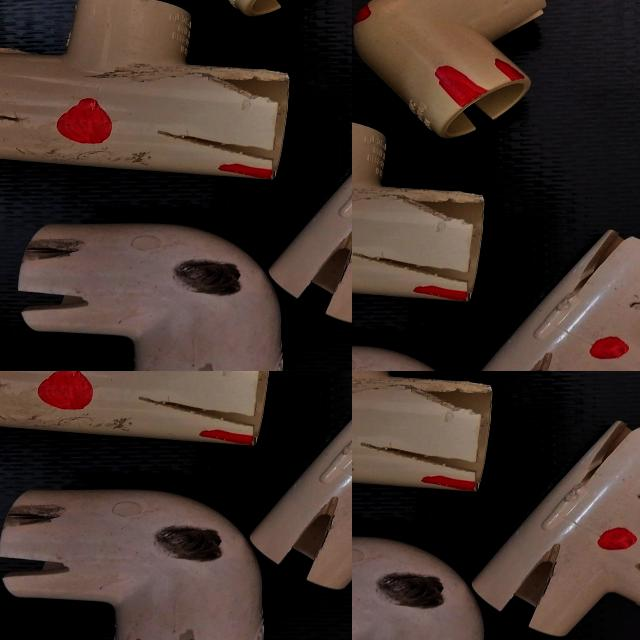Defective: (356, 439, 479, 473), (512, 554, 578, 612), (404, 385, 492, 420), (378, 576, 441, 609), (506, 576, 560, 610), (352, 371, 388, 399), (527, 546, 567, 570), (598, 529, 636, 552), (616, 425, 640, 452), (425, 482, 473, 494), (582, 458, 619, 473), (598, 438, 620, 460)
L Joint: (352, 537, 485, 640)
T Joint: (471, 421, 640, 640), (352, 371, 492, 494)
